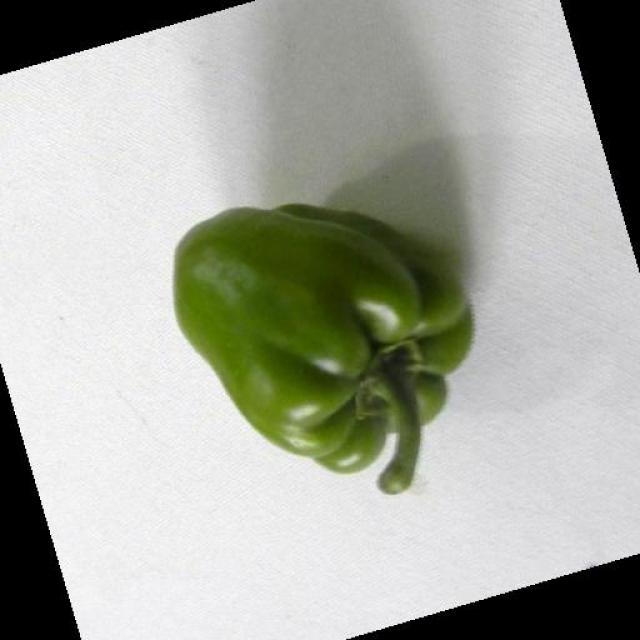Fresh_Capsicum: (141, 172, 478, 518)
